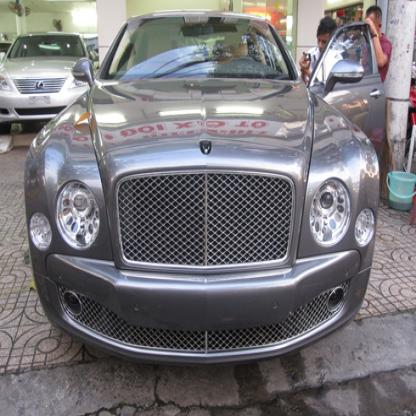Vehicle: (25, 12, 388, 358)
